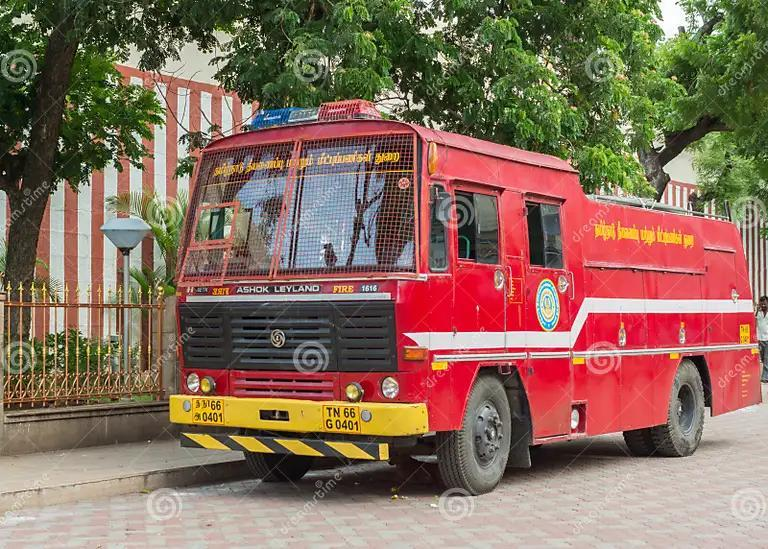Fire-engine: (168, 101, 765, 497), (248, 100, 390, 128), (327, 279, 358, 297)
